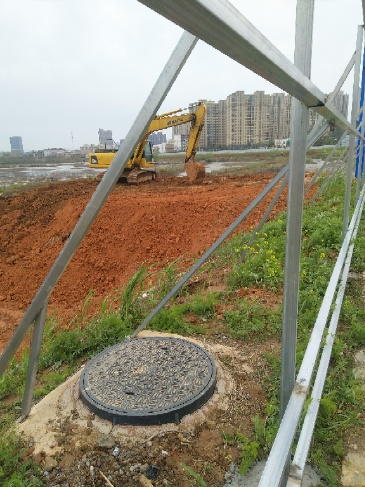good: (81, 336, 218, 422)
